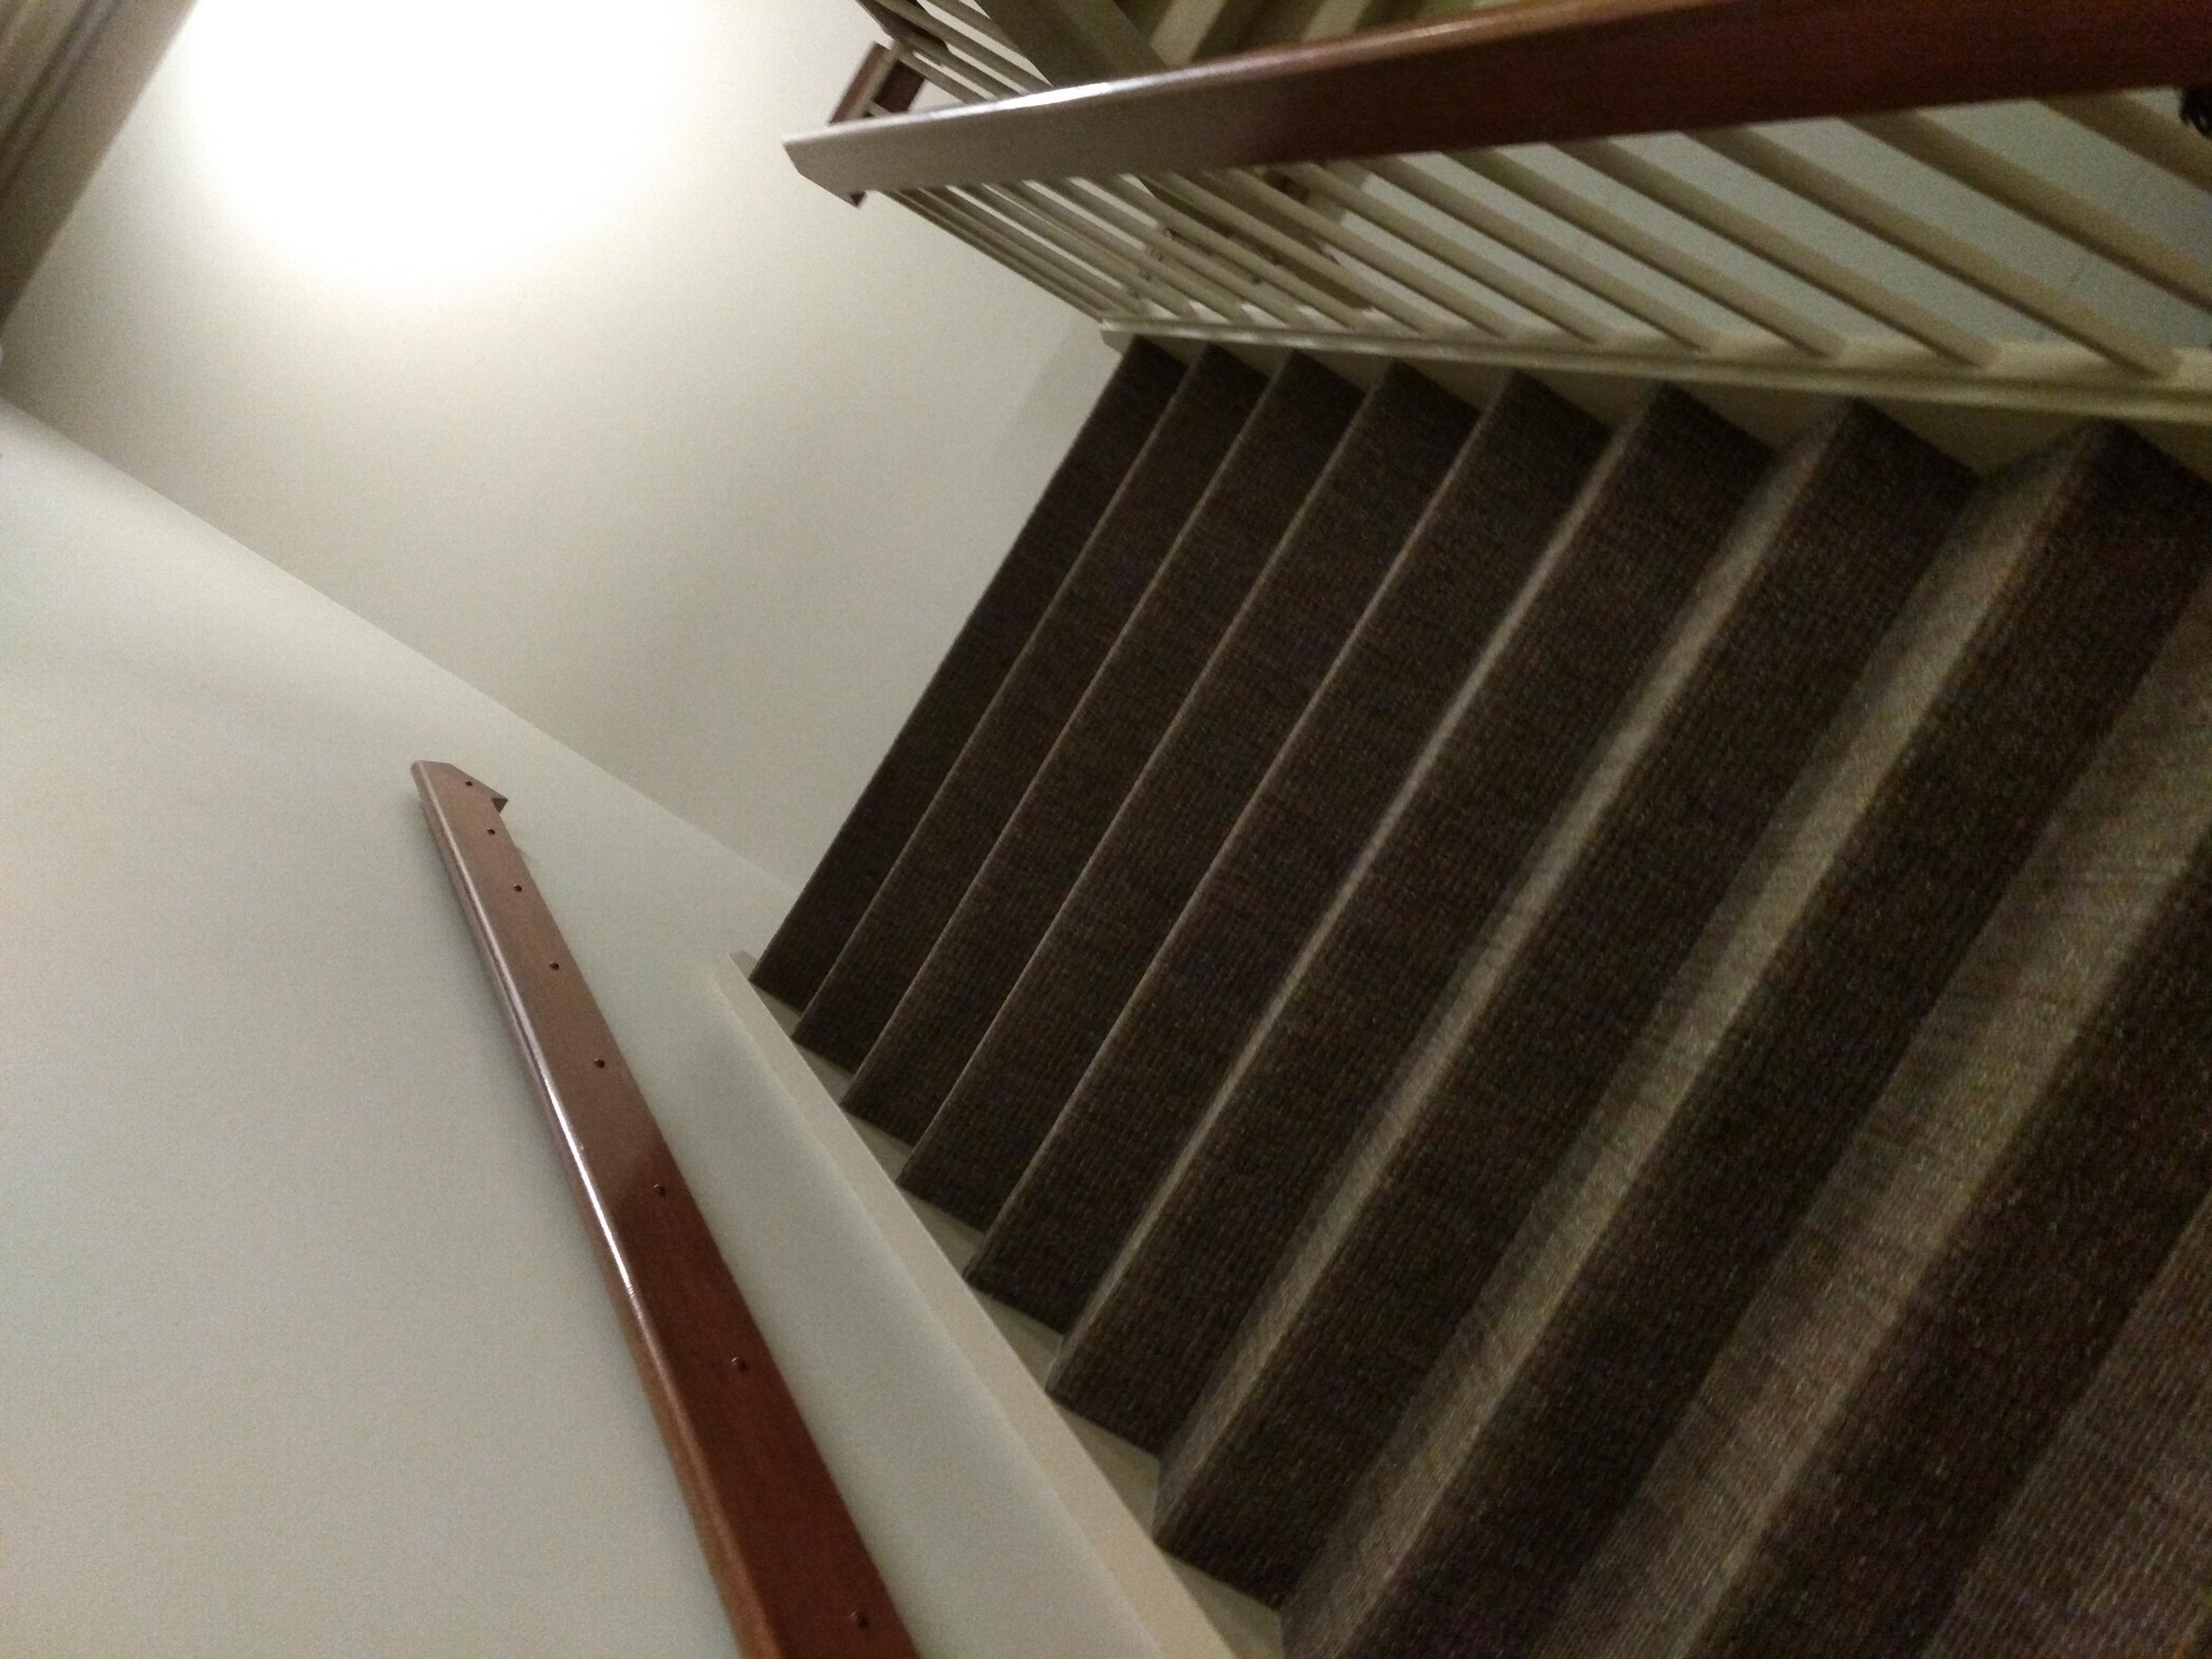stairs_up: (705, 286, 2212, 1659)
